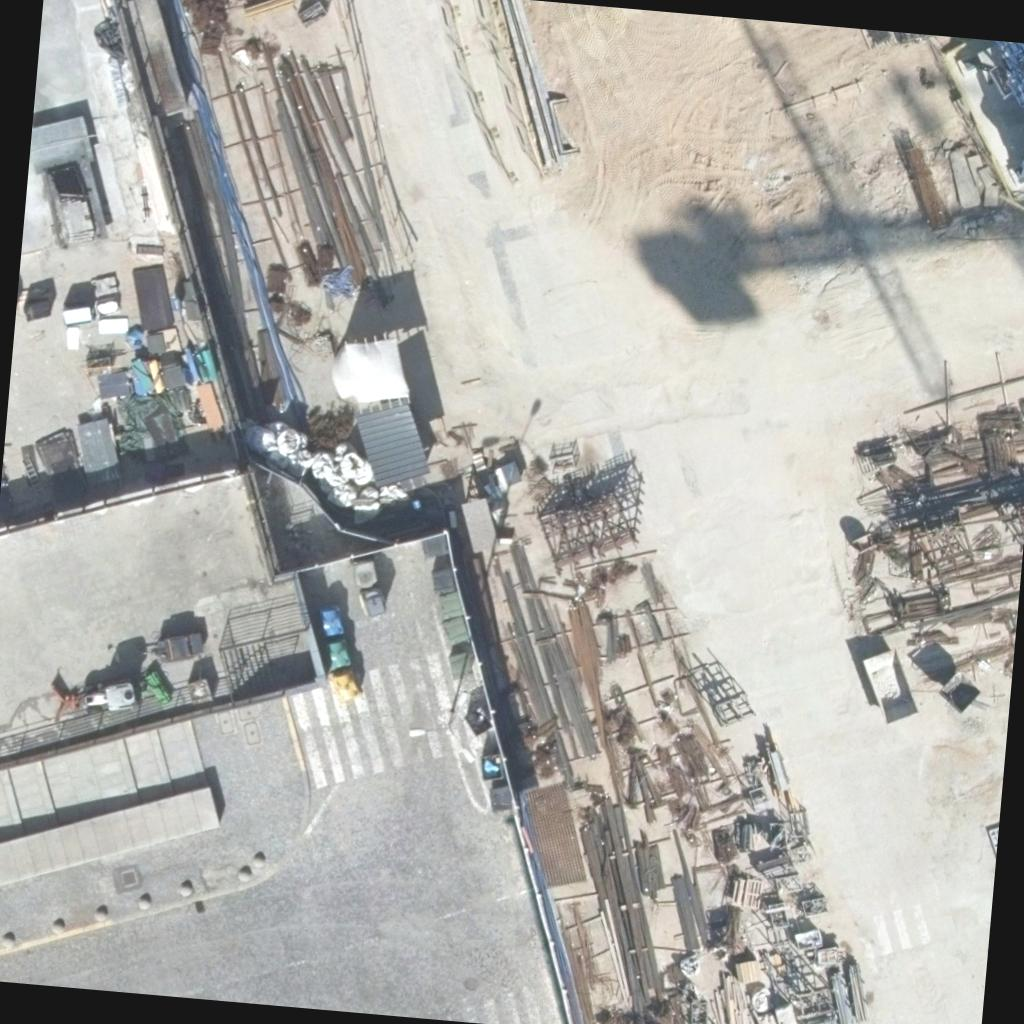koparka: (79, 677, 137, 715)
